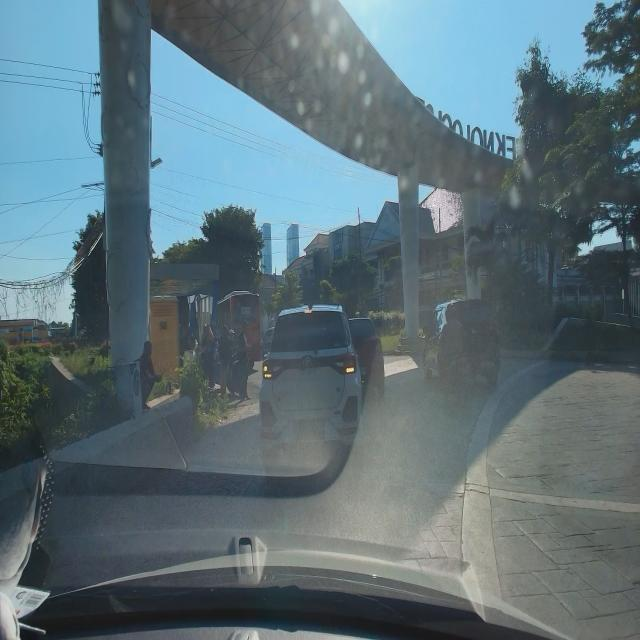car: (258, 298, 364, 476)
